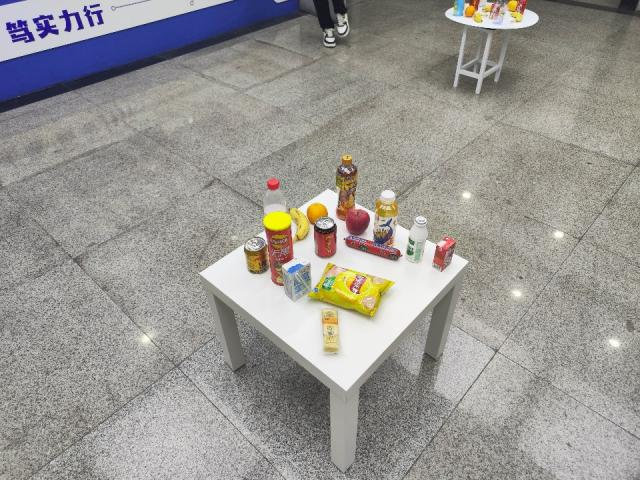Canned_drinks: (311, 213, 341, 261), (244, 237, 271, 277)
